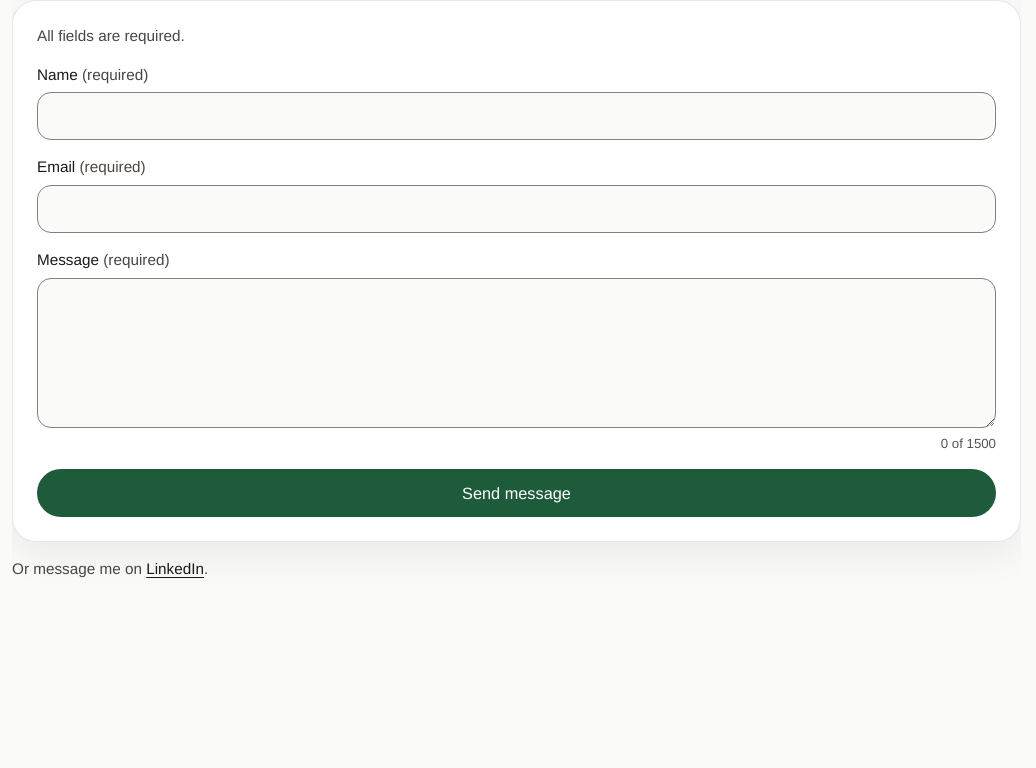
Test: ContactForm › on HTTP 429 shows an alert, keeps the typing and offers LinkedIn
The width and height of the screenshot is (1036, 768).
Type "Ada Lovelace" into the field labelled "Name (required)" at (516, 116), box [37,92,996,140]
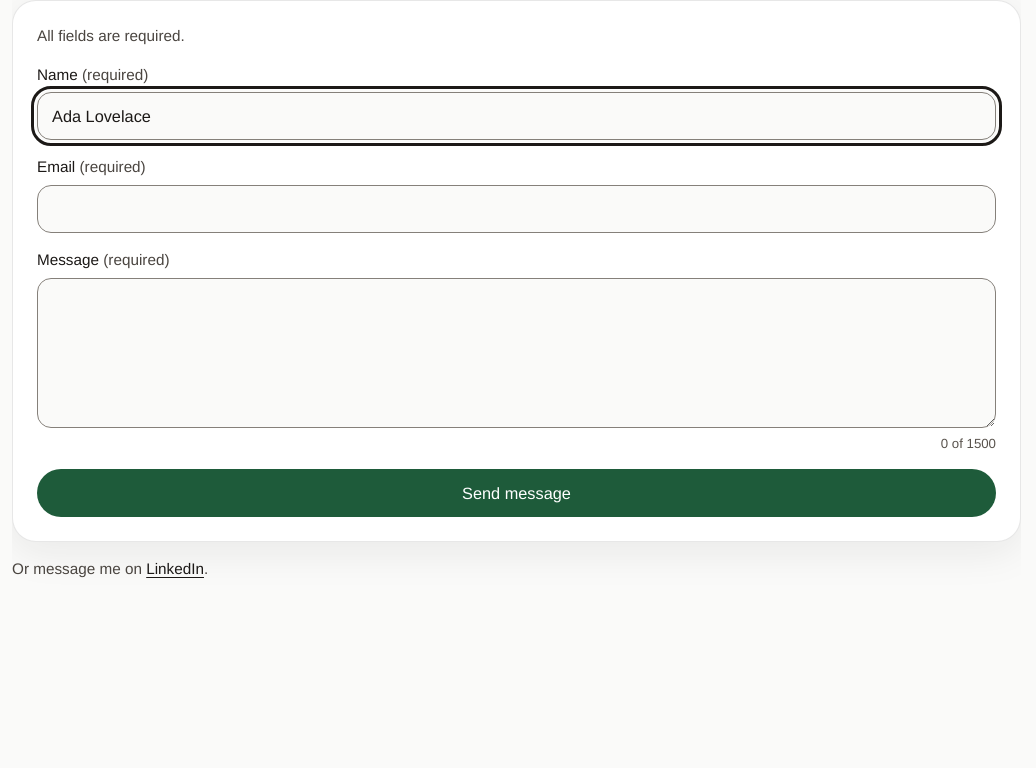
Type "ada@example.com" into the field labelled "Email (required)" at (516, 209), box [37,185,996,233]
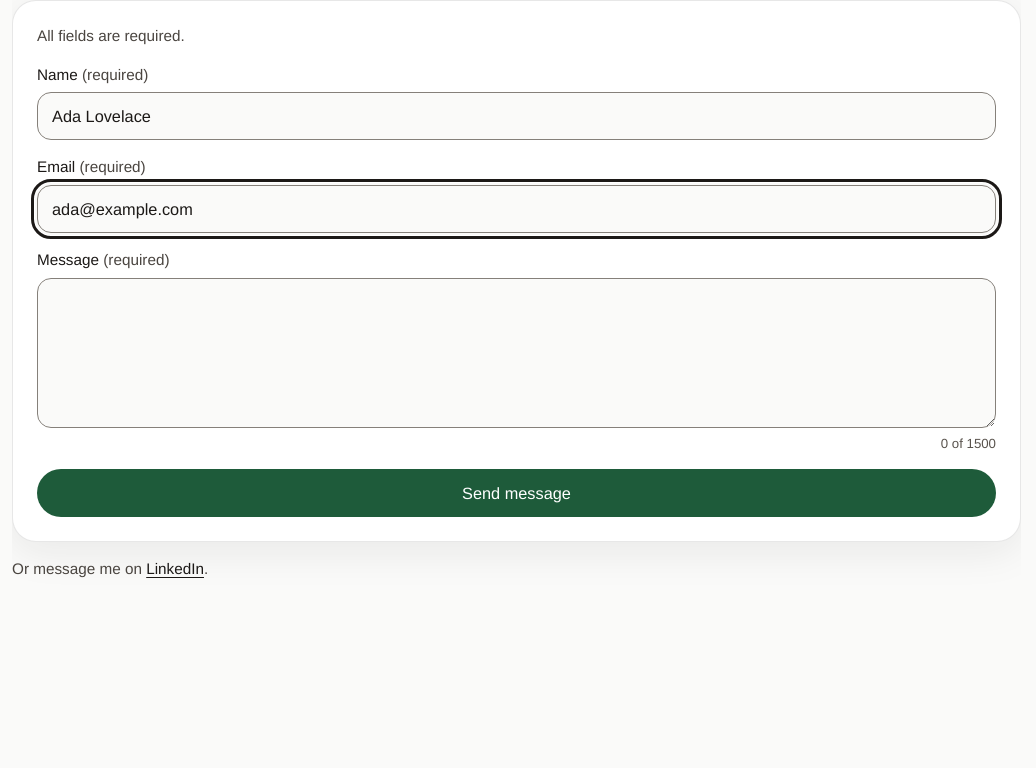
Type "Hello there." into the text box labelled "Message (required)" at (516, 353), box [37,278,996,428]
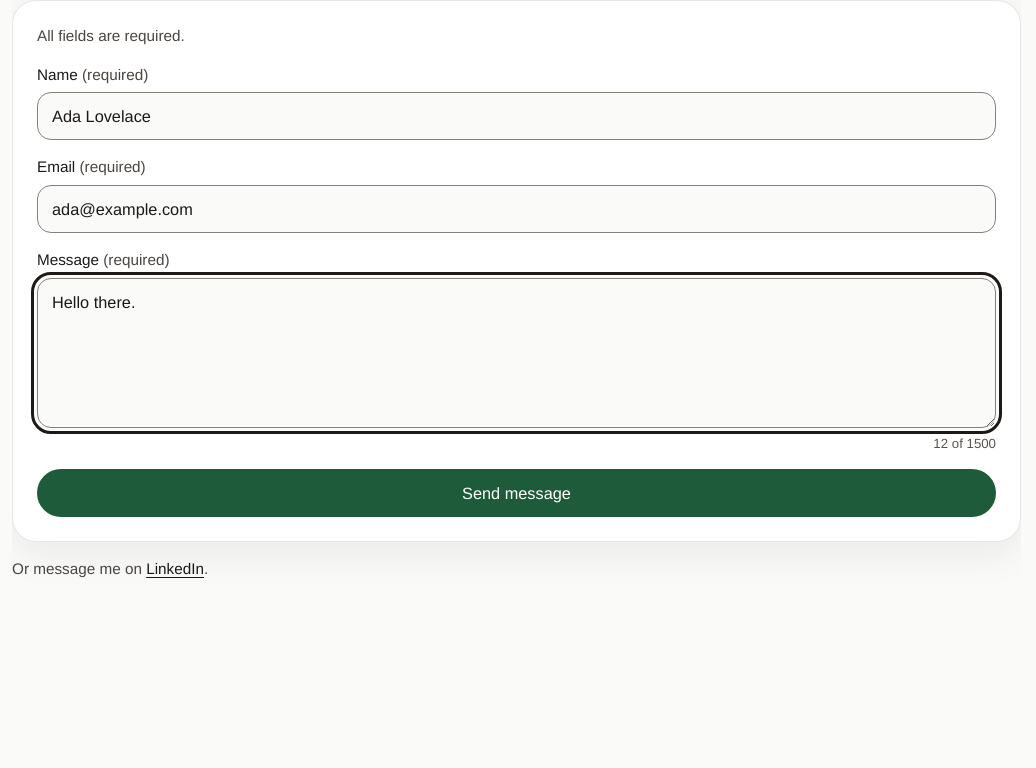
Click the button "Send message" at (516, 493), box [37,469,996,517]
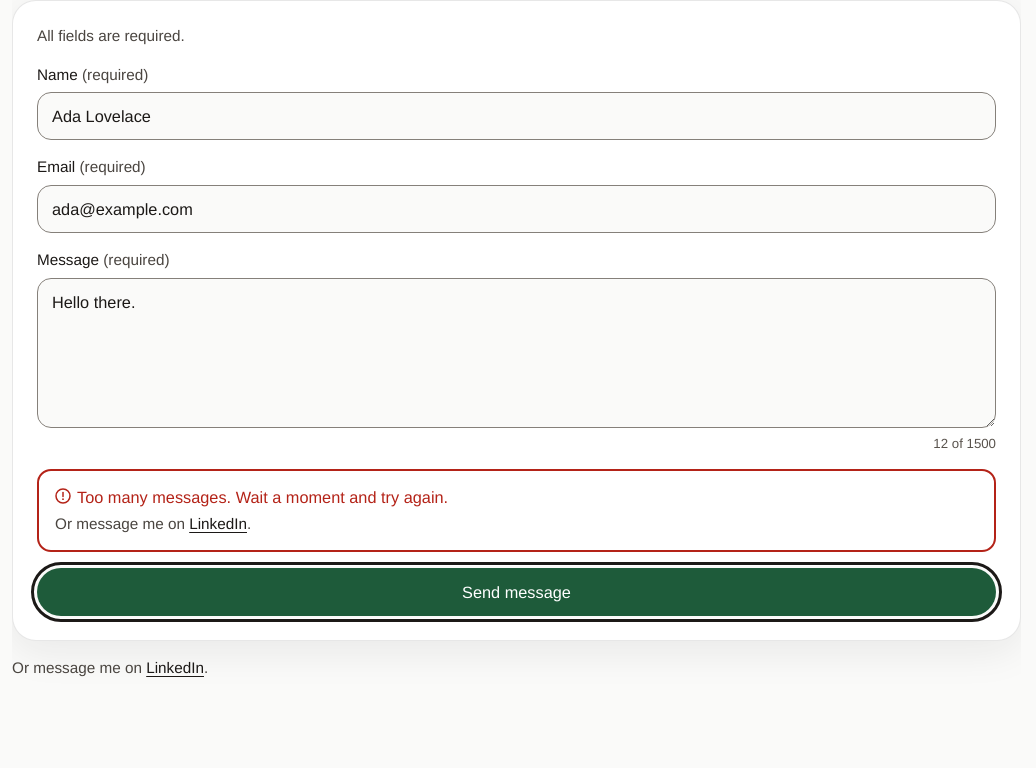
Expected: the button "Send message" is shown, [37,568,996,616]
Now the message shows "Too many messages. Wait a moment and try again.", box [77,488,448,506]
